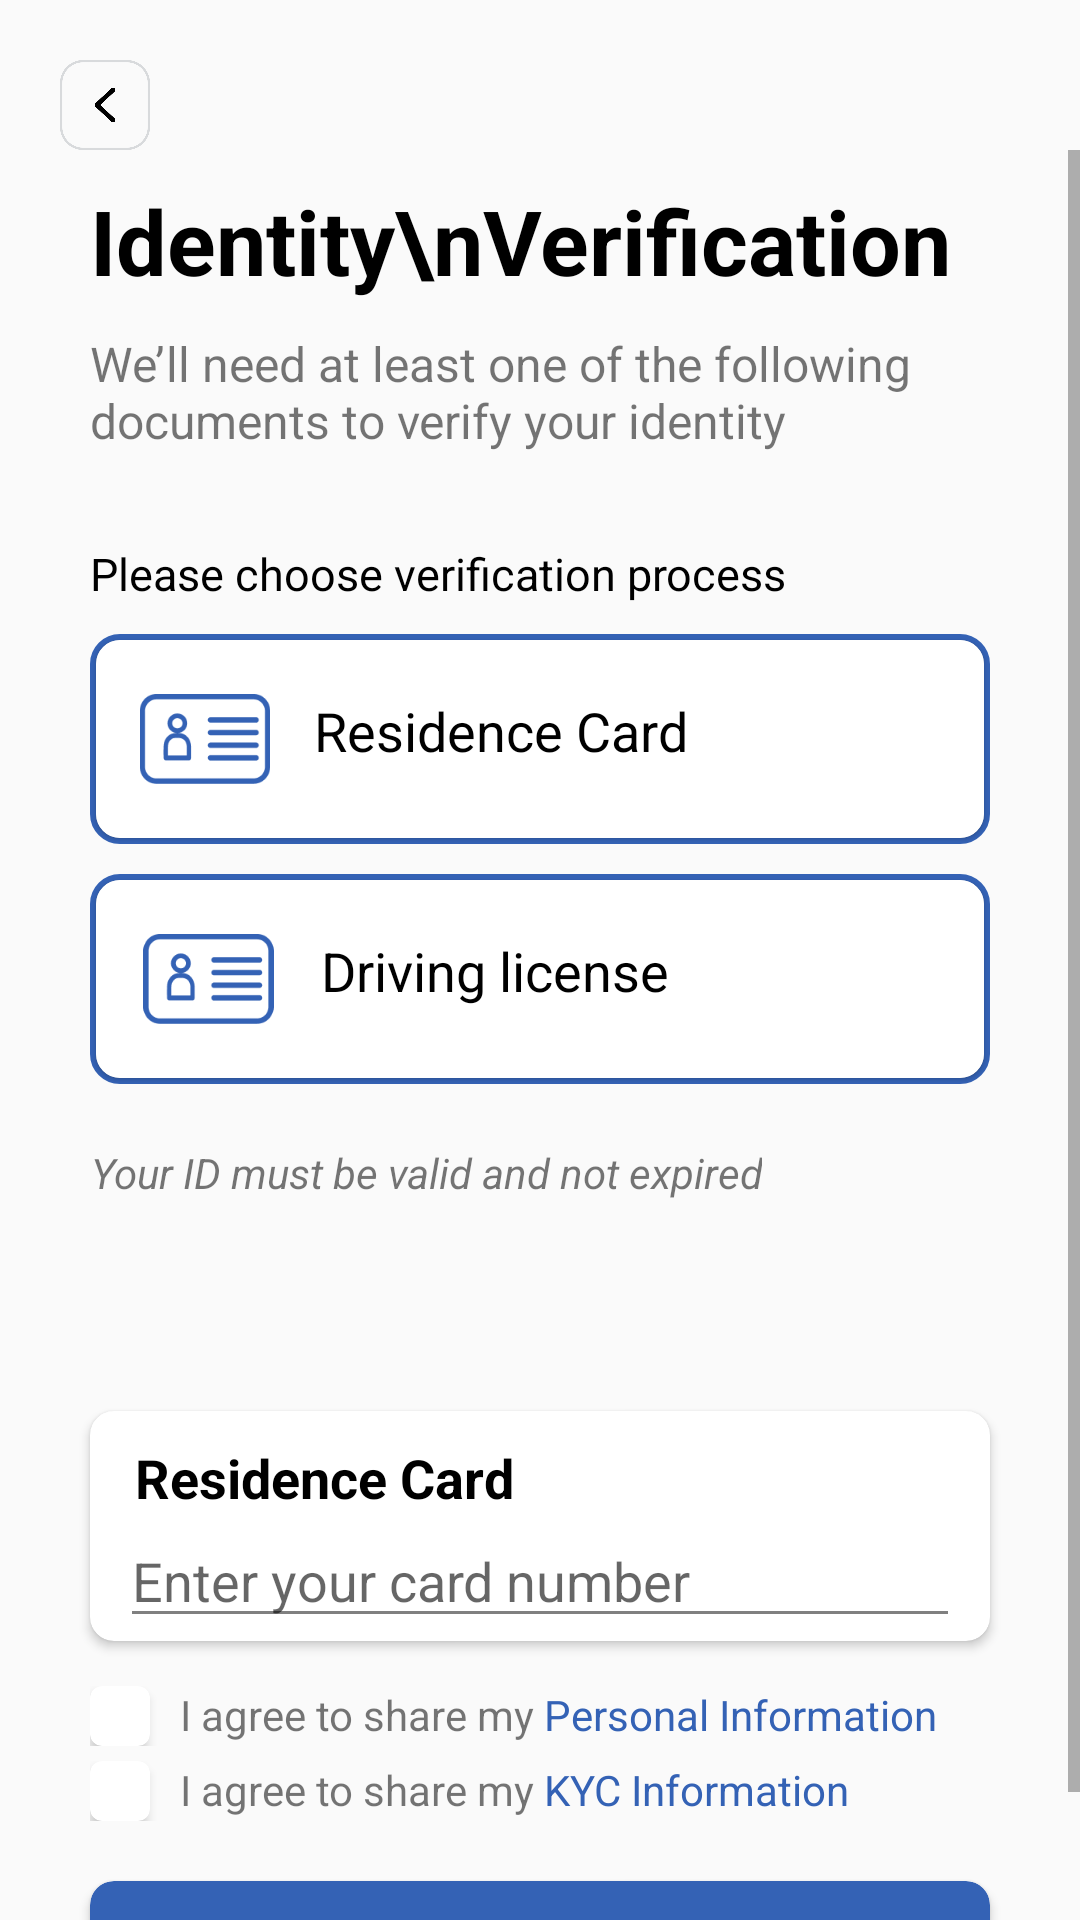

Icons on this 1080px x 1920px Android screen, each with the point to tap as (x=x, y=y):
resident: (x=205, y=739), (x=208, y=979)
